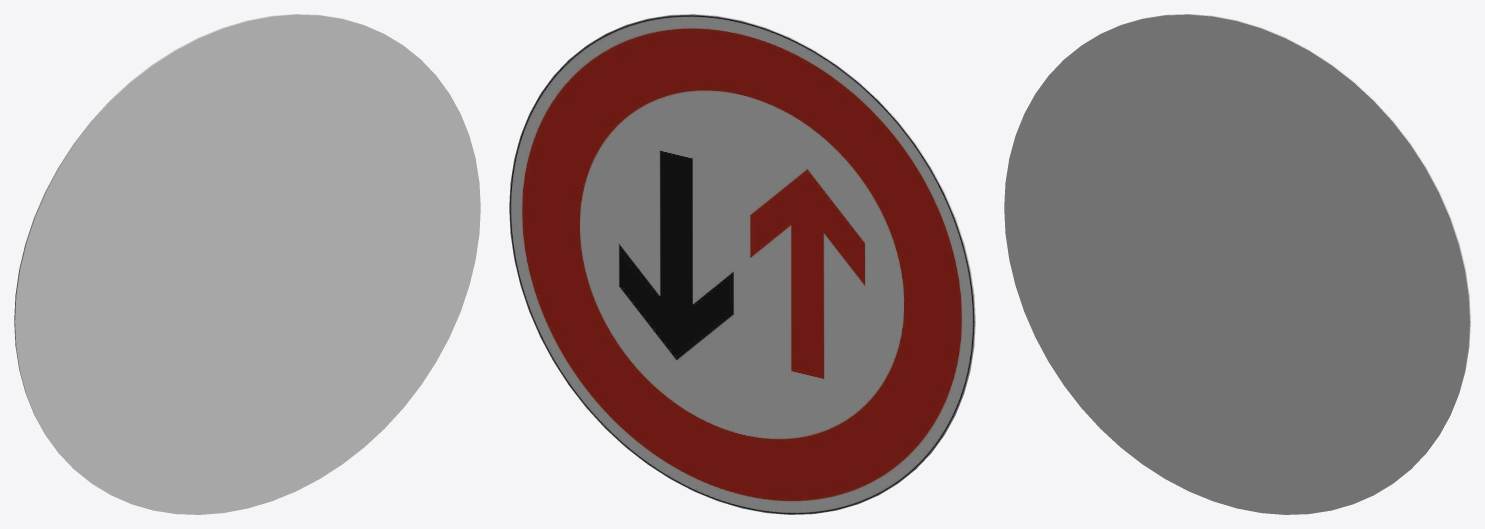
3 renders of one model, left to right at view 1: azimuth 30°, elevation 25°; view 2: azimuth 150°, elevation 25°; view 3: azimuth 330°, elevation 25°, orthographic.
Visible parts, largest first — view 1: Circle; view 2: Circle; view 3: Circle.
Boxes of the visible parts, box(x1,y1,x2,y2) form: Circle: box(14, 14, 480, 514); Circle: box(509, 14, 975, 514); Circle: box(1004, 14, 1470, 514).
Bounding box in the file's own units: 0.6 × 0.6 × 0.002.
Materials: 2 (1 with a texture image).
